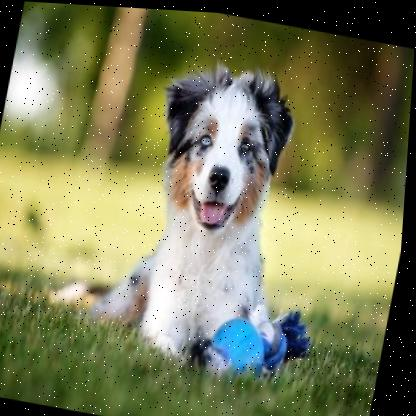dog: (52, 42, 350, 394)
